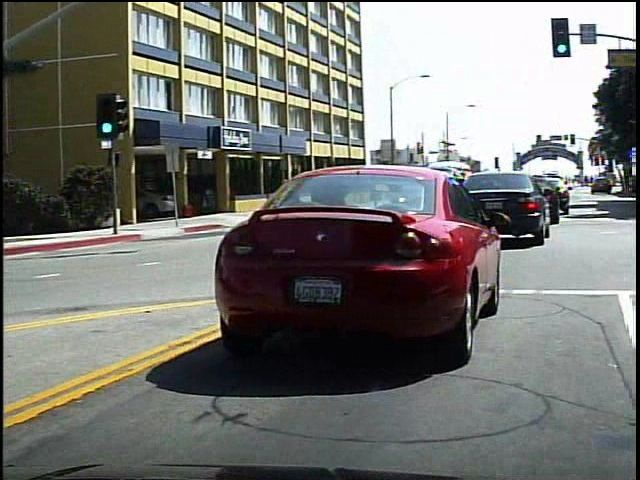person: (263, 176, 285, 211)
